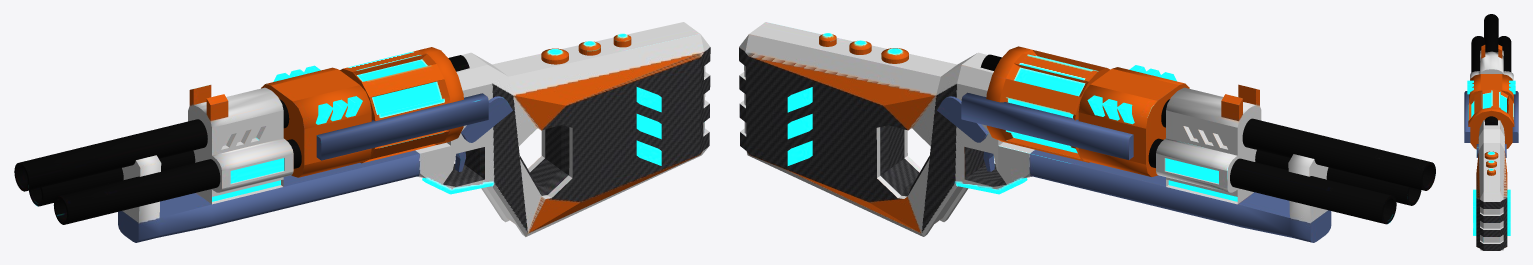
The model's file is blaster4789076.glb.
3 views of the same model, side by side, from view 1: azimuth 30°, elevation 25°; view 2: azimuth 150°, elevation 25°; view 3: azimuth 270°, elevation 25° (orthographic). The views are drawn at different scales.
Visible parts, largest first — view 1: Gun_Cube; view 2: Gun_Cube; view 3: Gun_Cube.
Boxes of the visible parts, x1,y1,x2,y2 form: Gun_Cube: (14, 22, 710, 242); Gun_Cube: (739, 22, 1435, 242); Gun_Cube: (1464, 14, 1518, 250).
Bounding box in the file's own units: 5.62 × 1.67 × 0.7763.
Materials: 1 (1 with a texture image).
